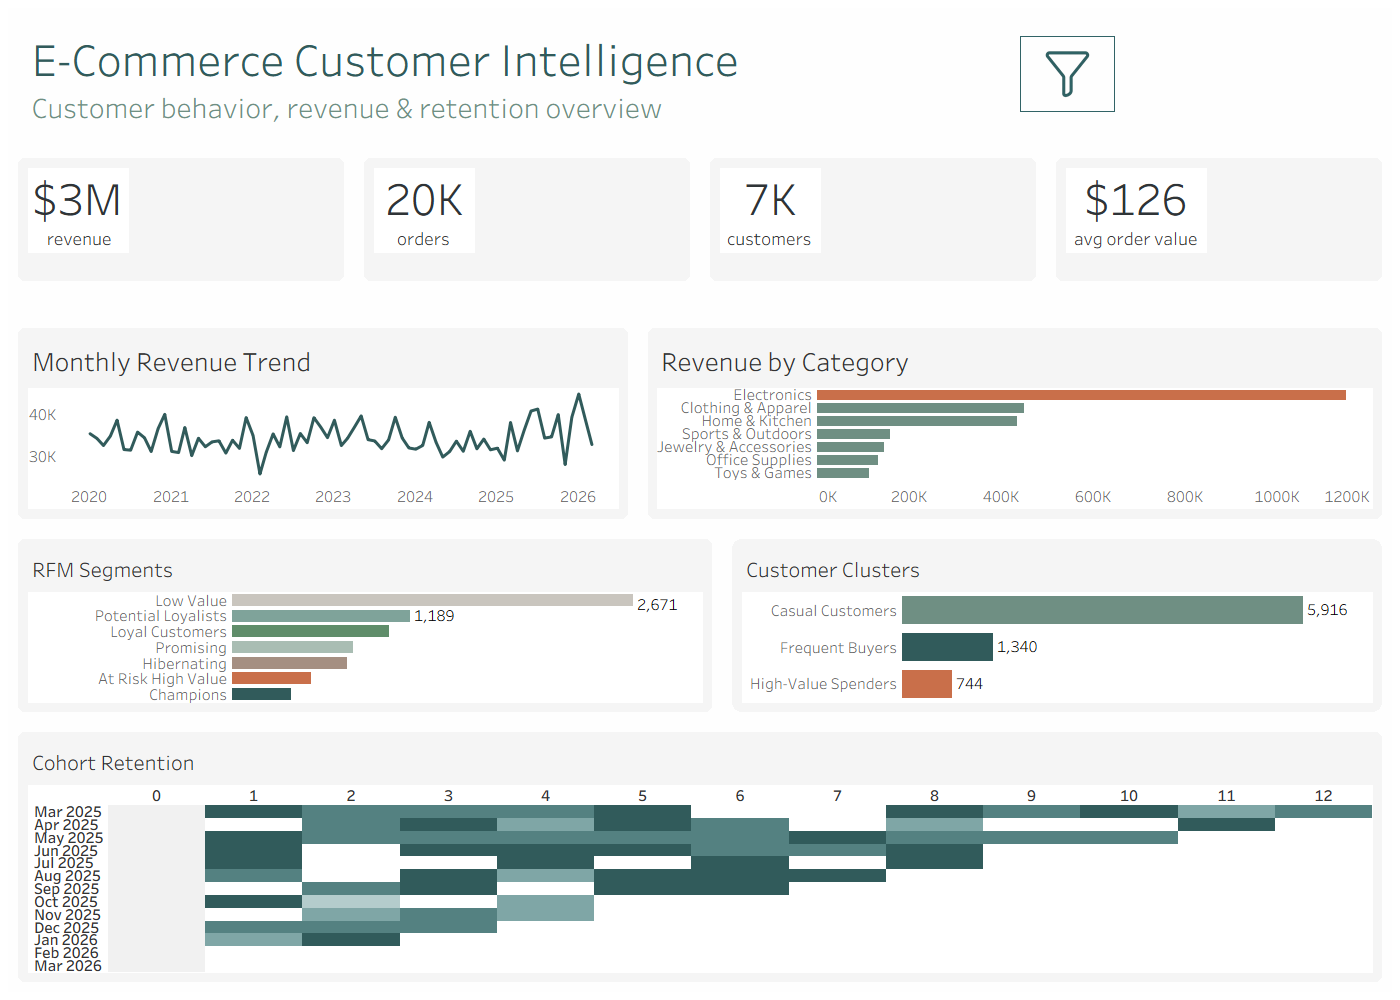

The page's visual inventory and layout, read from the dashboard file:
{"tool":"tableau","page":{"name":"E-Commerce Customer Intelligence","canvas":[1400,1000],"ordinal":0},"visuals":[{"type":"dashboard-object","box":[1039,6.7,95,71.7]},{"type":"text","box":[8,8,1120,106]},{"type":"text","box":[1129,9,262,92]},{"type":"blank","box":[1129,101,262,89]},{"type":"worksheet","title":"Total Revenue","mark":"Automatic","box":[8,158,280,92]},{"type":"worksheet","title":"Total Orders","mark":"Automatic","box":[288,158,280,92]},{"type":"worksheet","title":"Total Customers","mark":"Automatic","box":[568,158,280,92]},{"type":"worksheet","title":"Average Order Value","mark":"Automatic","box":[848,158,280,92]},{"type":"filter","title":"Revenue by Category","param":"[federated.0ik67bs07vfv4p1d15cjr1j8i8xv].[sum:total_amount_usd:qk]","box":[1129,190,262,80]},{"type":"worksheet","title":"Monthly Revenue Trend","mark":"Line","rows":["total_amount_usd"],"cols":["order_date"],"box":[8,250,497.5,241]},{"type":"worksheet","title":"Revenue by Category","mark":"Bar","rows":["category"],"cols":["total_amount_usd"],"box":[505.5,250,622.5,241]},{"type":"blank","box":[1129,270,262,84]},{"type":"filter","title":"Revenue by Category","param":"[federated.0ik67bs07vfv4p1d15cjr1j8i8xv].[none:category:nk]","box":[1129,354,262,438]},{"type":"worksheet","title":"RFM Segments","mark":"Bar","rows":["Segment_Name"],"cols":["customer_id"],"box":[8,491,582,212]},{"type":"worksheet","title":"Customer Clusters","mark":"Bar","rows":["cluster_name"],"cols":["customer_id"],"box":[590,491,538,212]},{"type":"worksheet","title":"Cohort Retention","mark":"Square","rows":["cohort_month"],"cols":["cohort_index"],"box":[8,703,1120,288.9]}]}

Visuals, with their boxes in screenshot pixels (x1, y1, x2, y2), scaled from the page's 1400x1000 canvas onto the 1400x1000 screenshot:
dashboard-object: locate(1039, 7, 1134, 78)
text: locate(8, 8, 1128, 114)
text: locate(1129, 9, 1391, 101)
blank: locate(1129, 101, 1391, 190)
"Total Revenue" worksheet: locate(8, 158, 288, 250)
"Total Orders" worksheet: locate(288, 158, 568, 250)
"Total Customers" worksheet: locate(568, 158, 848, 250)
"Average Order Value" worksheet: locate(848, 158, 1128, 250)
"Revenue by Category" filter: locate(1129, 190, 1391, 270)
"Monthly Revenue Trend" worksheet (Line marks): locate(8, 250, 506, 491)
"Revenue by Category" worksheet (Bar marks): locate(506, 250, 1128, 491)
blank: locate(1129, 270, 1391, 354)
"Revenue by Category" filter: locate(1129, 354, 1391, 792)
"RFM Segments" worksheet (Bar marks): locate(8, 491, 590, 703)
"Customer Clusters" worksheet (Bar marks): locate(590, 491, 1128, 703)
"Cohort Retention" worksheet (Square marks): locate(8, 703, 1128, 992)
